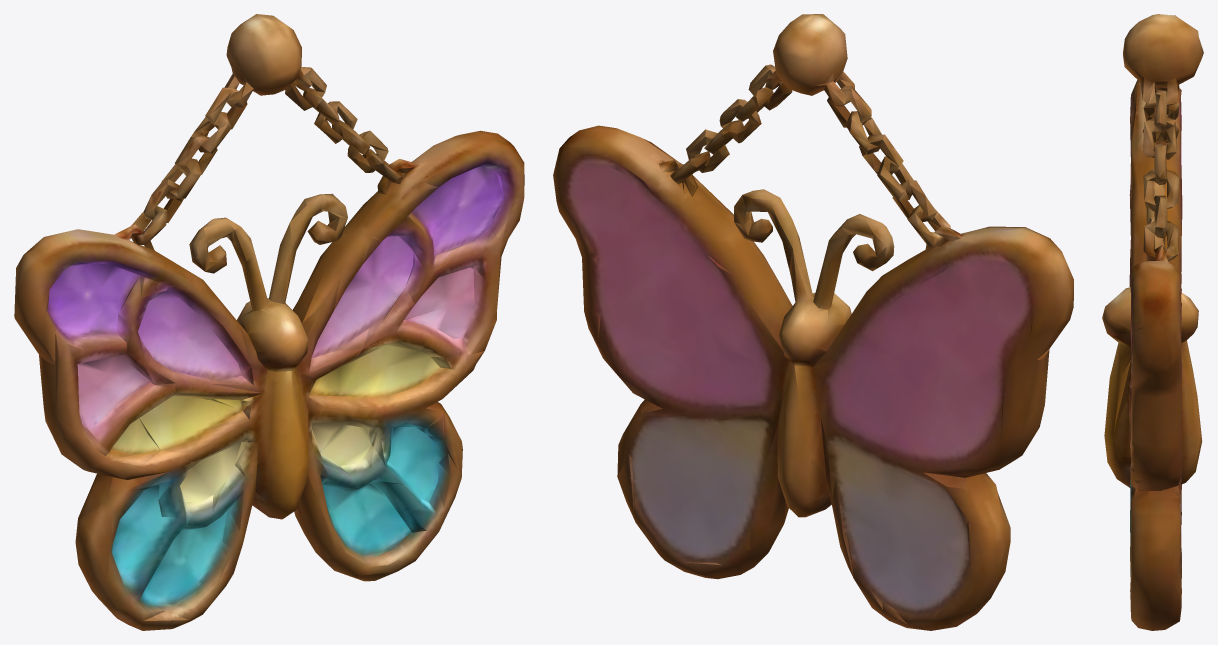
File: wall01.glb
3 renders of one model, left to right at view 1: azimuth 30°, elevation 25°; view 2: azimuth 150°, elevation 25°; view 3: azimuth 270°, elevation 25°, orthographic. The views are drawn at different scales.
Bounding box in the file's own units: 0.2418 × 0.2648 × 0.0436.
Materials: 1 (1 with a texture image).
